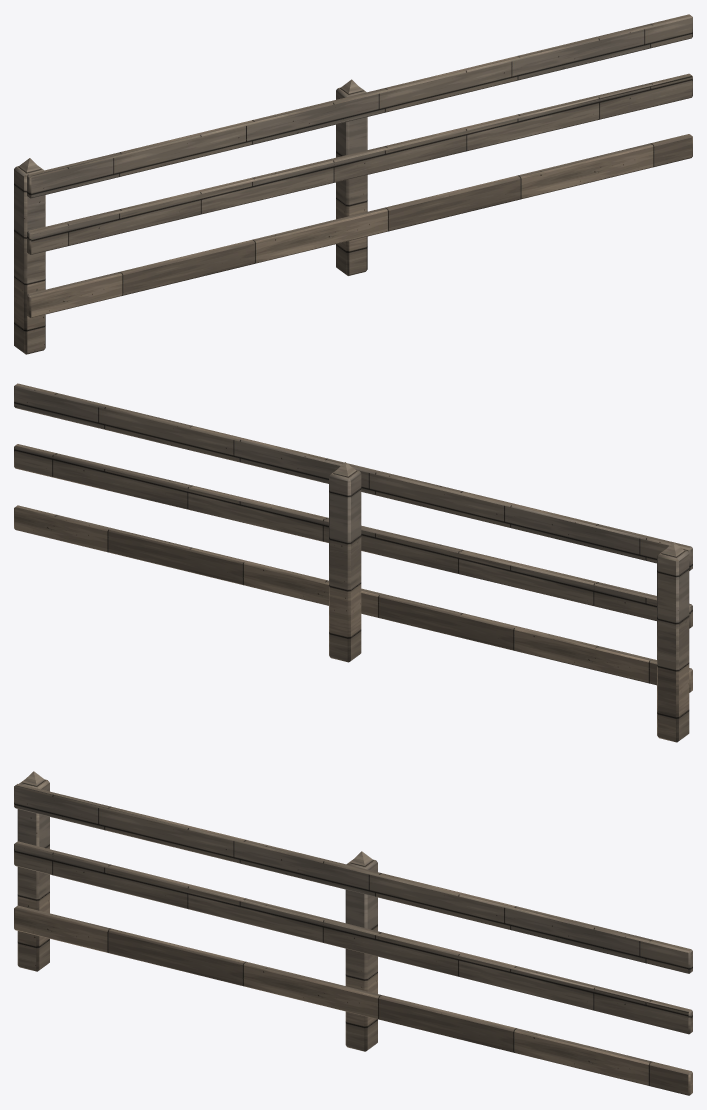
The model's file is fence.glb.
The picture shows the model from 3 angles, top to bottom: view 1: azimuth 30°, elevation 25°; view 2: azimuth 150°, elevation 25°; view 3: azimuth 330°, elevation 25°; orthographic projection.
Visible parts, largest first — view 1: fence; view 2: fence; view 3: fence.
Boxes of the visible parts, x1,y1,x2,y2 form: fence: (14,14,692,354); fence: (14,383,692,742); fence: (14,771,692,1095).
Size of the model in its own units: 4.01 by 1.1 by 0.17.
1 material, 1 textured.
